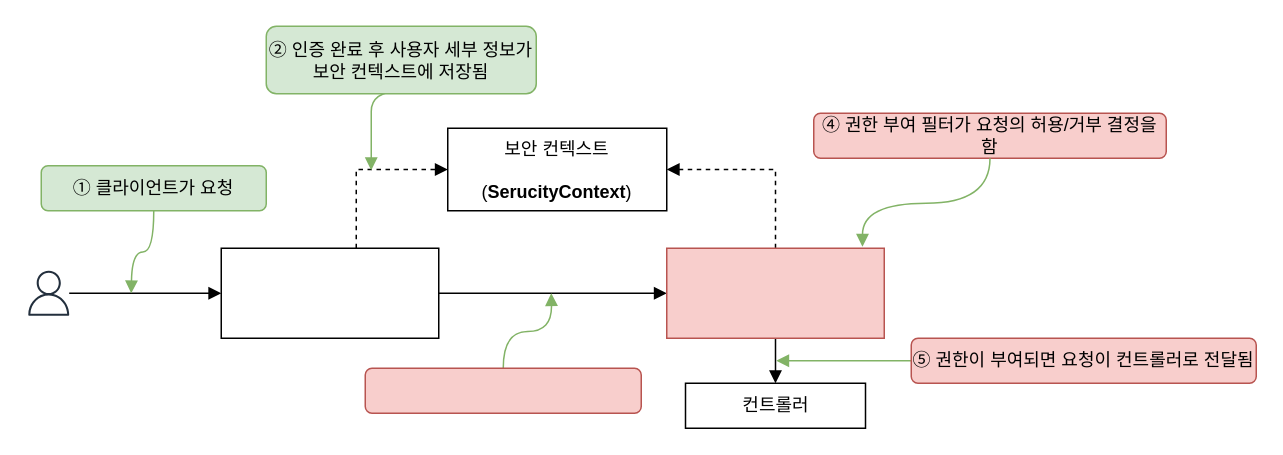
Some shapes in this 1283 by 455 pixel diagram are drawn without their labels. The centre of each missing label's shape, as x and y in pixels:
"③ 요청이 권한 부여 필터로 위임됨" goes at point (502, 390).
"권한 부여 필터 ( AuthorizationFilter )" goes at point (774, 292).
"인증 필터 ( AuthenticationFilter )" goes at point (329, 292).
